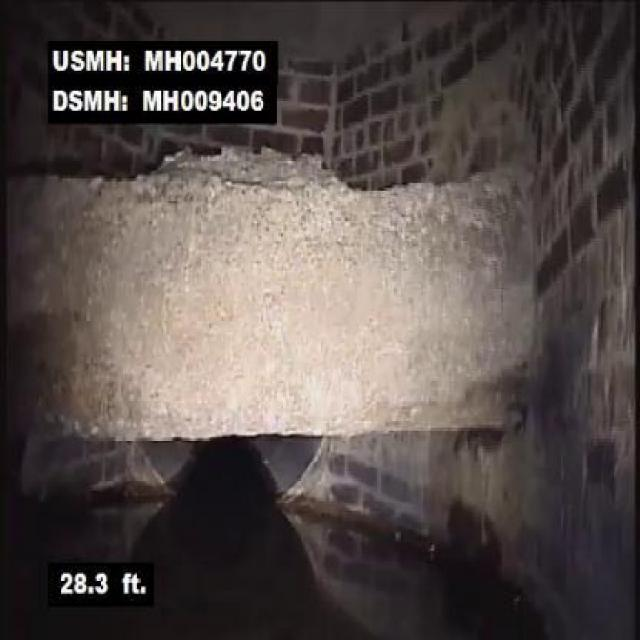Utility intrusion: (4, 145, 556, 460)
